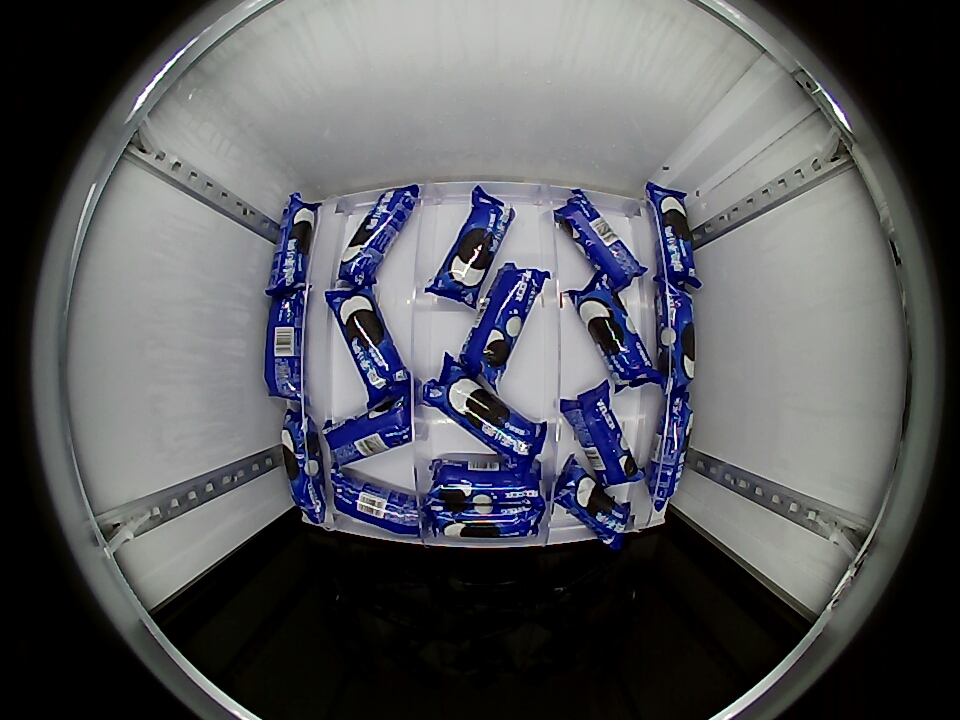aoliao: (430, 364, 543, 464), (331, 288, 412, 406), (463, 267, 542, 380), (435, 196, 510, 304), (573, 280, 648, 387), (336, 188, 415, 282), (568, 380, 638, 483), (560, 196, 637, 288), (331, 467, 423, 542), (557, 460, 629, 551), (322, 405, 416, 470), (426, 500, 546, 545), (278, 412, 327, 520), (263, 293, 310, 399), (428, 457, 542, 500), (650, 394, 696, 500), (653, 281, 696, 393), (272, 197, 315, 299), (653, 183, 694, 285)
